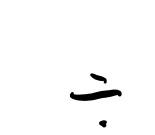div: (67, 73, 122, 128)
